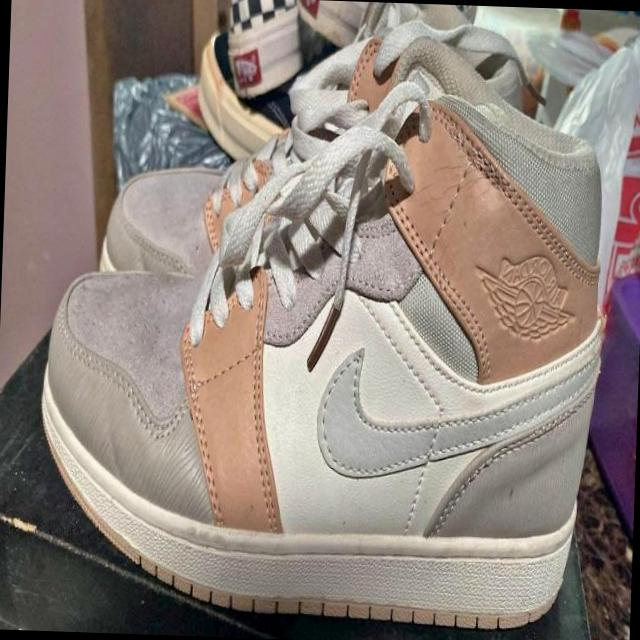nike_fake_jordan: (17, 14, 621, 636), (103, 0, 534, 306)
